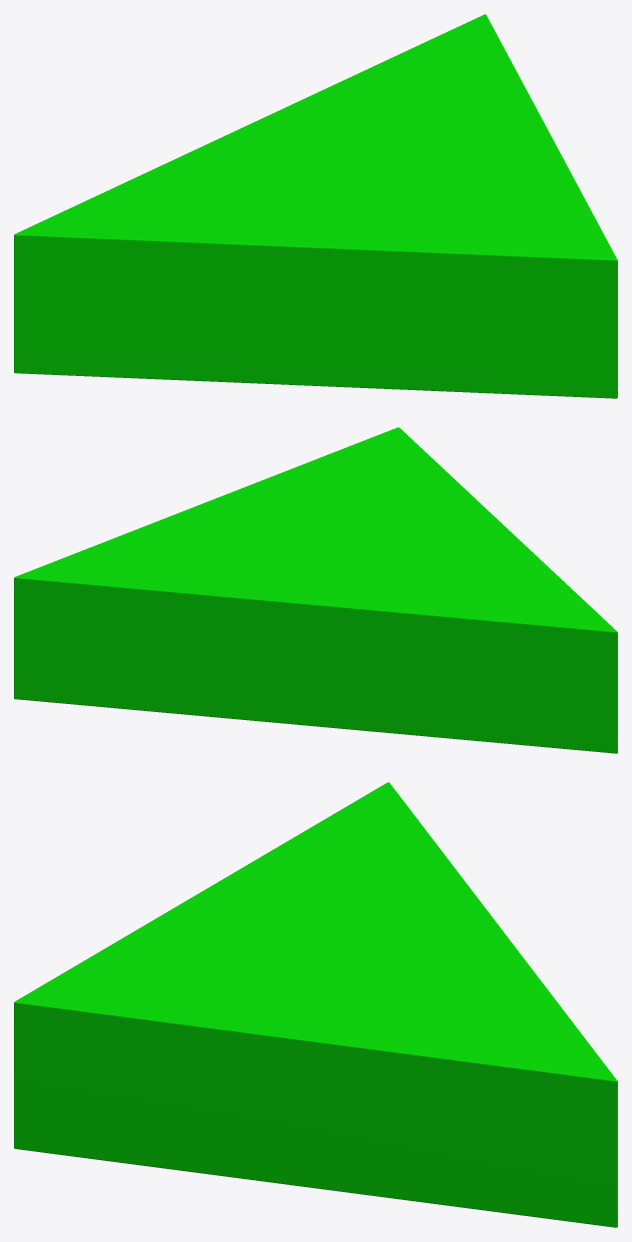
The model's file is Obstacle_04.fbx.
The picture shows the model from 3 angles, top to bottom: view 1: azimuth 30°, elevation 25°; view 2: azimuth 150°, elevation 25°; view 3: azimuth 270°, elevation 25°; orthographic projection. The views are drawn at different scales.
Visible parts, largest first — view 1: Obstacle_04; view 2: Obstacle_04; view 3: Obstacle_04.
Part boxes in pixels (bbox=[...]): Obstacle_04: bbox=[14, 14, 617, 398]; Obstacle_04: bbox=[14, 427, 617, 753]; Obstacle_04: bbox=[14, 782, 617, 1227].
Size of the model in its own units: 4.36 by 1 by 3.71.
